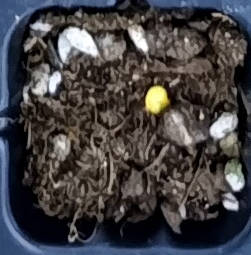pepper seed: (59, 28, 231, 143)
